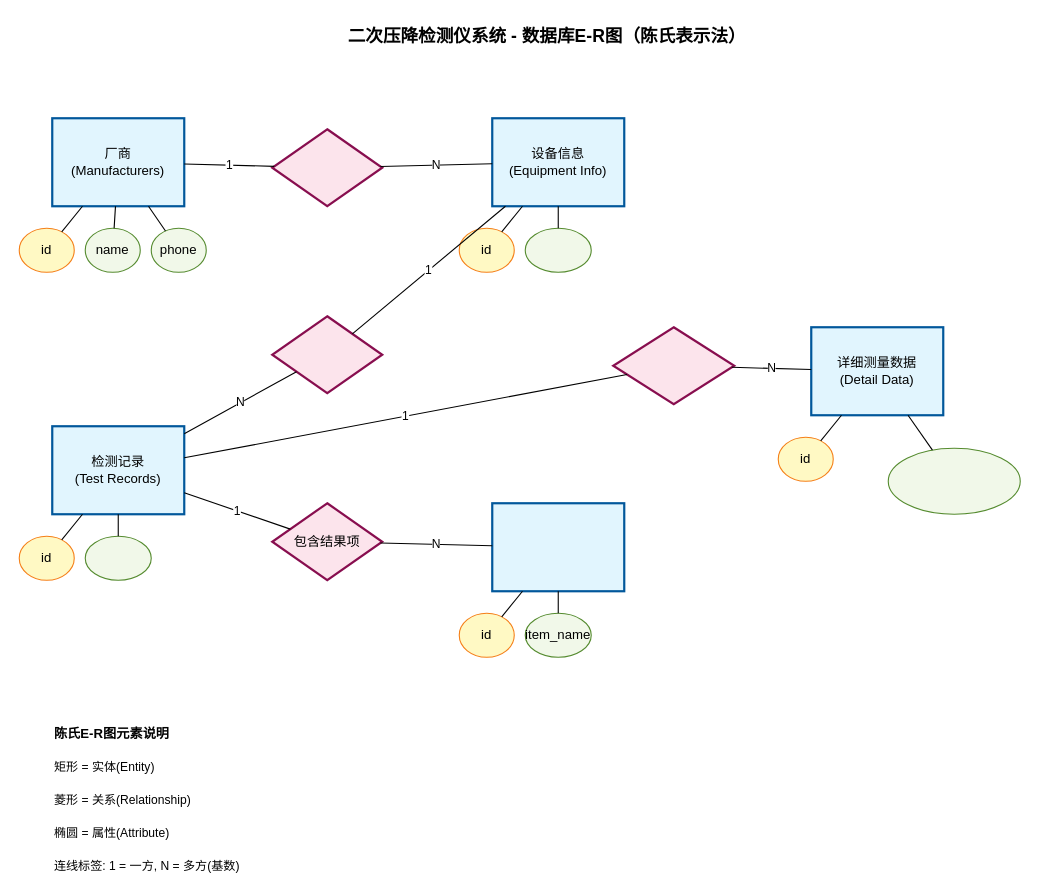
Image size: 1040x895. Some labels were removed from this diagram. Here are the shapes that lost their labels. From the top down, the centre of each, then its label:
point (327, 167): 生产
point (557, 249): product_code
point (327, 354): 被检测
point (673, 365): 包含详细数据
point (953, 480): measurement_point
point (117, 557): test_date
point (558, 547): 检测结果项 (Test Items)
